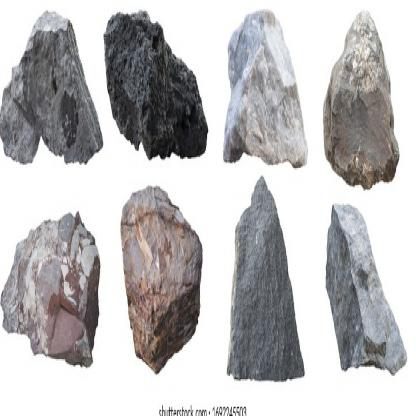Igneous_Diorite: (41, 233, 101, 390), (337, 208, 387, 365), (340, 57, 400, 168), (247, 32, 291, 165), (39, 38, 80, 156), (125, 63, 190, 137), (259, 211, 284, 365), (146, 245, 181, 344)
